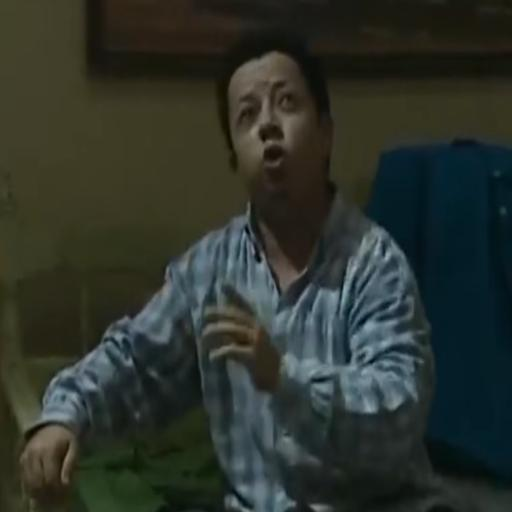fouchika: (217, 36, 333, 230)
